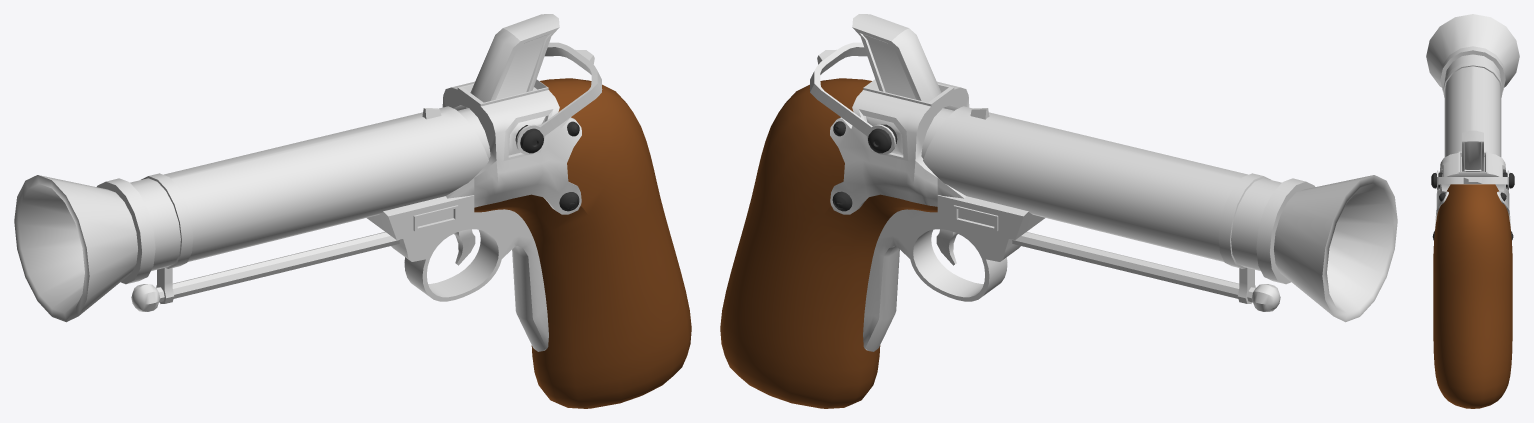
Rendered from Arma Pistola TRS test 1.fbx.
The picture shows the model from 3 angles, left to right: view 1: azimuth 30°, elevation 25°; view 2: azimuth 150°, elevation 25°; view 3: azimuth 270°, elevation 25°; orthographic projection. The views are drawn at different scales.
Parts seen in each view (by area): view 1: Cylinder, Cylinder.001, Cube, Circle, Sphere, Cube.001, Cylinder.003; view 2: Cylinder, Cylinder.001, Cube, Circle, Sphere, Cube.001, Cylinder.003; view 3: Cylinder.001, Cylinder, Cube, Cube.001, Cylinder.003, Cylinder.004.
Boxes of the visible parts, bbox=[...] form: Cylinder: bbox=[14, 106, 488, 322]; Cylinder.001: bbox=[474, 78, 691, 408]; Cube: bbox=[367, 79, 581, 239]; Circle: bbox=[391, 209, 548, 351]; Sphere: bbox=[131, 232, 399, 311]; Cube.001: bbox=[470, 14, 559, 109]; Cylinder.003: bbox=[516, 42, 602, 154]; Cylinder: bbox=[923, 106, 1397, 322]; Cylinder.001: bbox=[720, 78, 937, 408]; Cube: bbox=[830, 79, 1044, 239]; Circle: bbox=[863, 209, 1020, 351]; Sphere: bbox=[1012, 232, 1280, 311]; Cube.001: bbox=[852, 14, 941, 109]; Cylinder.003: bbox=[809, 42, 895, 154]; Cylinder.001: bbox=[1433, 184, 1512, 408]; Cylinder: bbox=[1426, 14, 1519, 156]; Cube: bbox=[1435, 151, 1510, 228]; Cube.001: bbox=[1462, 130, 1483, 171]; Cylinder.003: bbox=[1437, 170, 1508, 190]; Cylinder.004: bbox=[1431, 172, 1514, 188].
Size of the model in its own units: 84.34 by 409 by 242.
